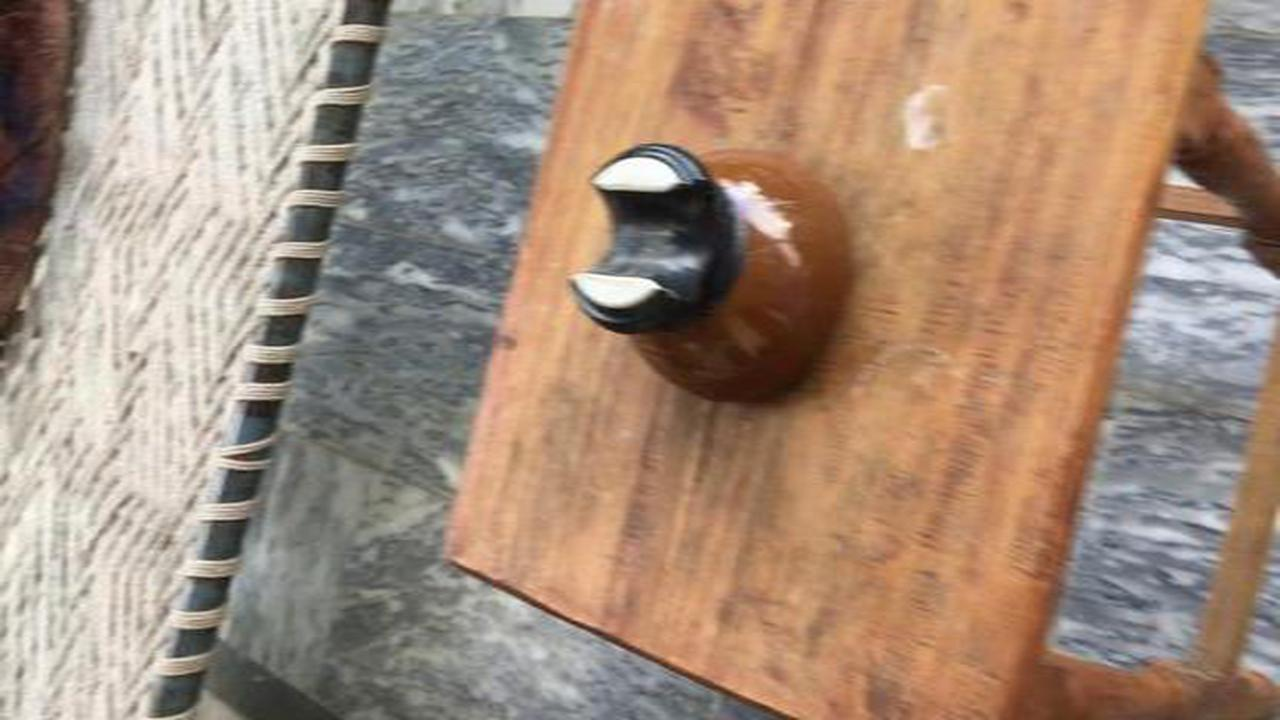insulator_pin: (548, 127, 877, 426)
